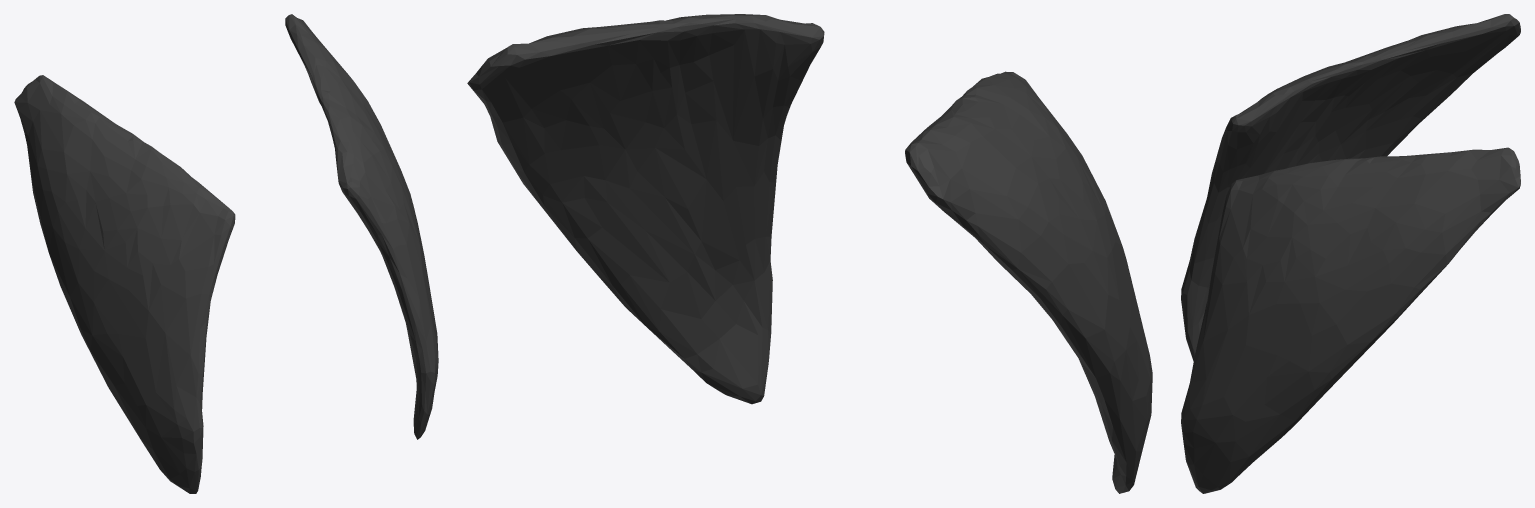
The model's file is m_rectus_thoracis.glb.
3 renders of one model, left to right at view 1: azimuth 30°, elevation 25°; view 2: azimuth 150°, elevation 25°; view 3: azimuth 270°, elevation 25°, orthographic. The views are drawn at different scales.
Parts seen in each view (by area): view 1: m_rectus_thoracis; view 2: m_rectus_thoracis; view 3: m_rectus_thoracis.
Boxes of the visible parts, x1,y1,x2,y2 form: m_rectus_thoracis: [14, 14, 438, 493]; m_rectus_thoracis: [467, 14, 1152, 493]; m_rectus_thoracis: [1181, 14, 1520, 493].
Size of the model in its own units: 0.00302 by 0.00273 by 0.00239.
1 material, 1 textured.
